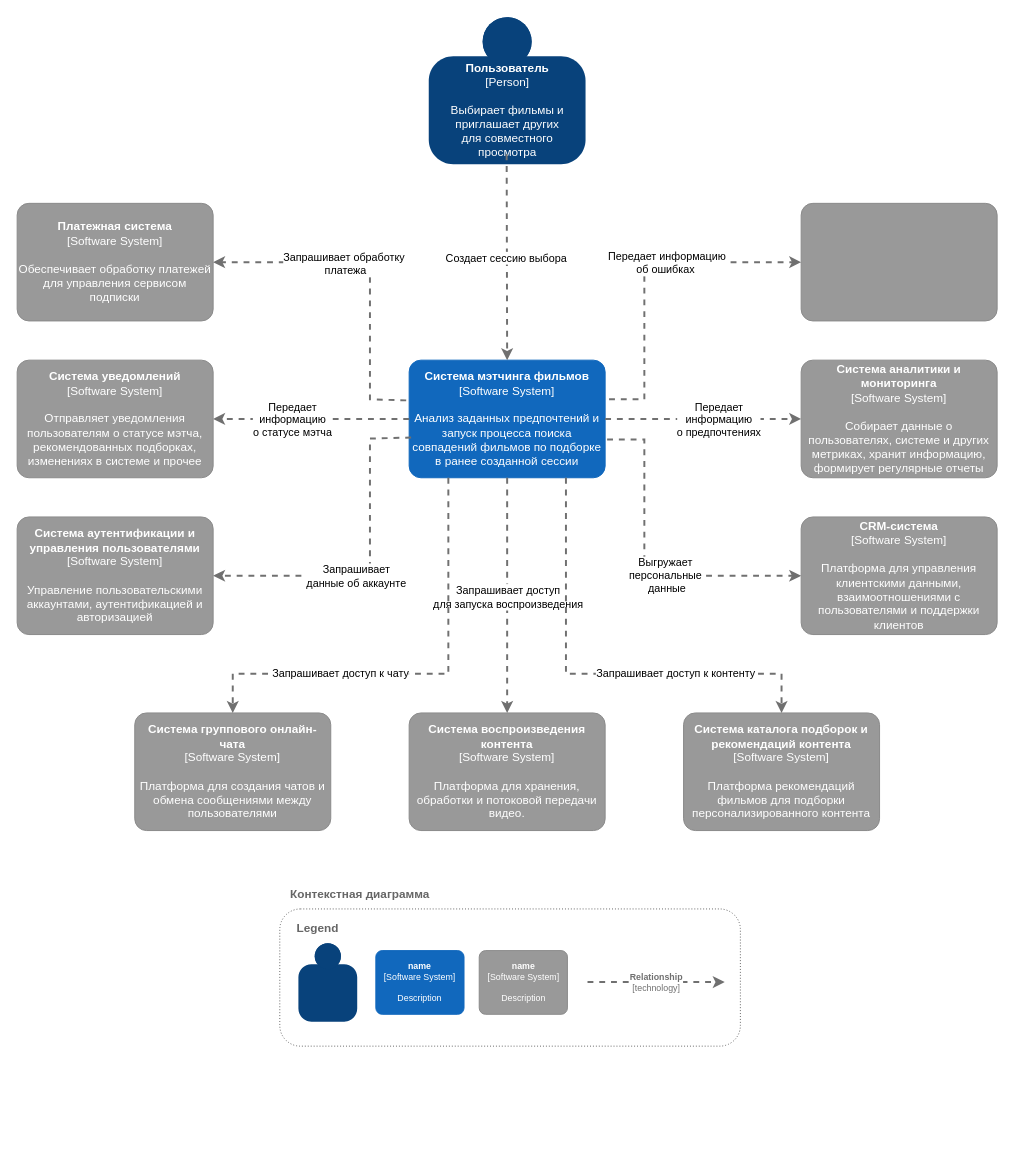
Some shapes in this 1014 by 1170 pixel diagram are drawn without their labels. Here are the shapes that lost their labels. From the top down, the centre of each, then its label:
(898,261): Система поддержки пользователей [Software System] Взаимодействует с клиентами
(327,982): name [Person] Description
